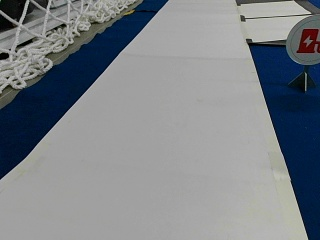battery: (286, 14, 320, 65)
